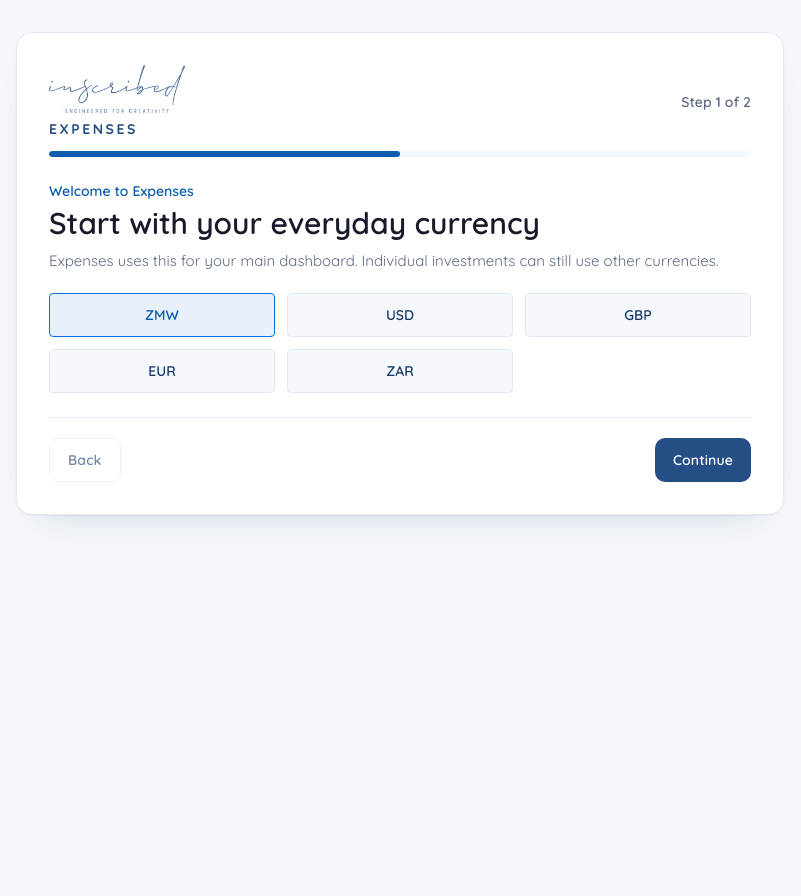
Scenario: guided onboarding › allows account setup to be skipped
Check: the heading "Start with your everyday currency" is shown, box [49,204,540,242]
Click the button "Continue".
click(703, 460)  # box [655,438,751,482]
(page scrolled)
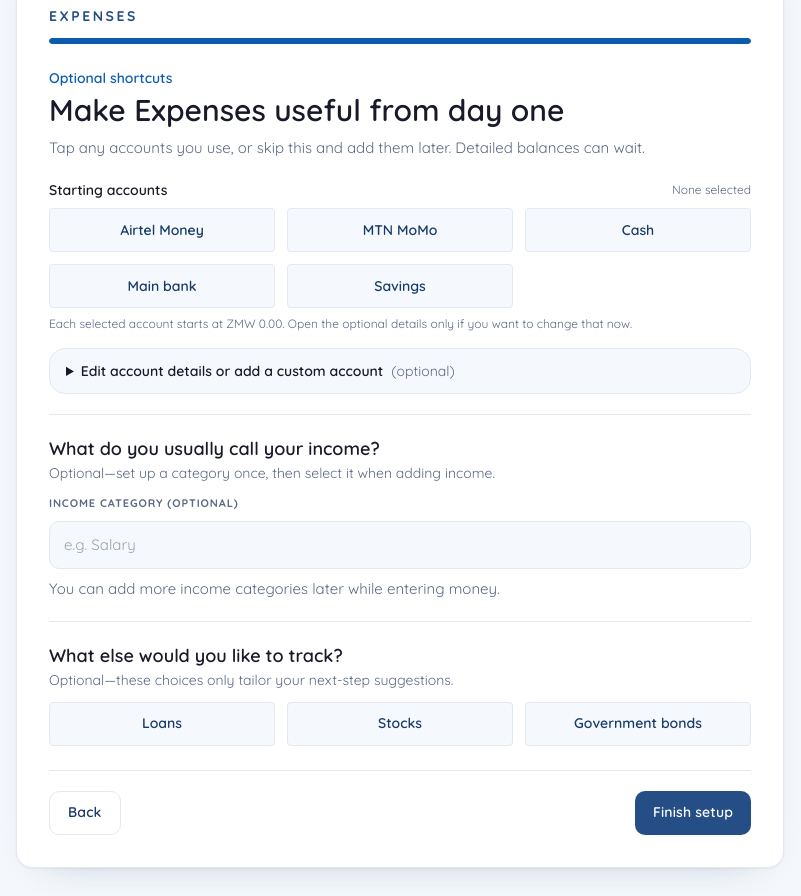
Check: the text "None selected" is shown, box [672,182,751,198]
Click the button "Finish setup".
click(693, 813)  # box [635,791,751,835]
(page scrolled)
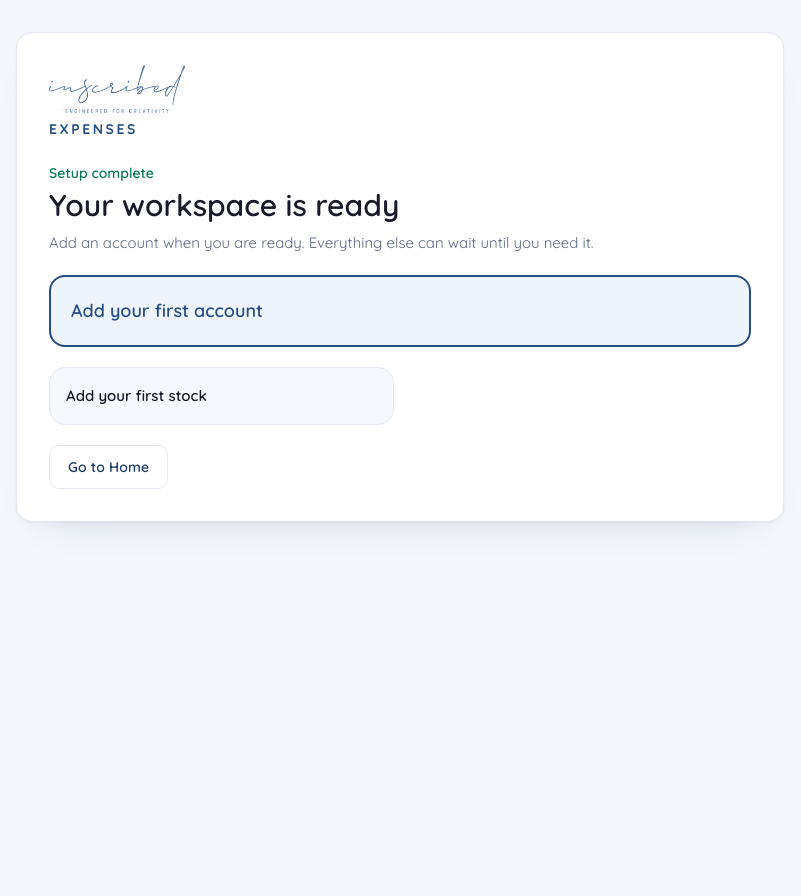
Check: the heading "Your workspace is ready" is shown, box [49,186,399,224]
